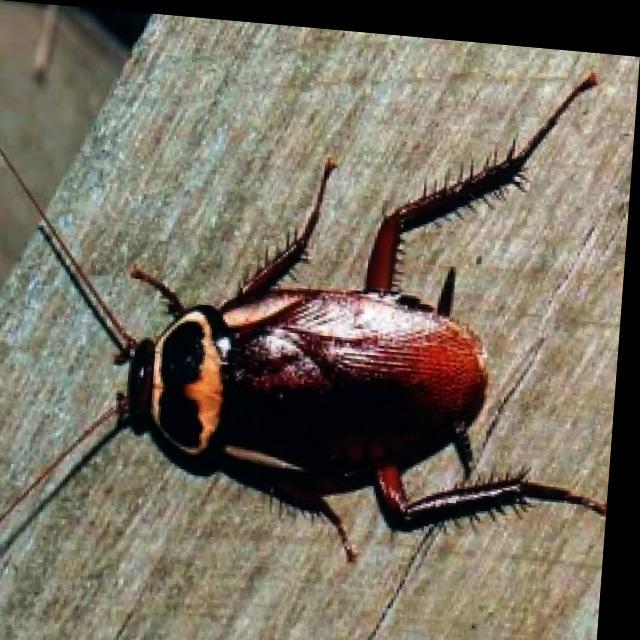cockroach: (1, 67, 611, 571)
